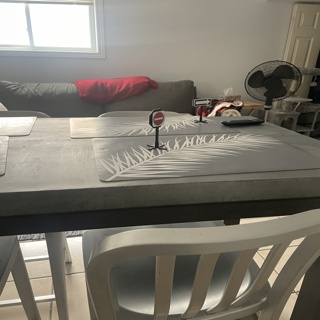sign_noentry: (150, 111, 164, 125)
sign_oneway_right: (192, 99, 210, 106)
